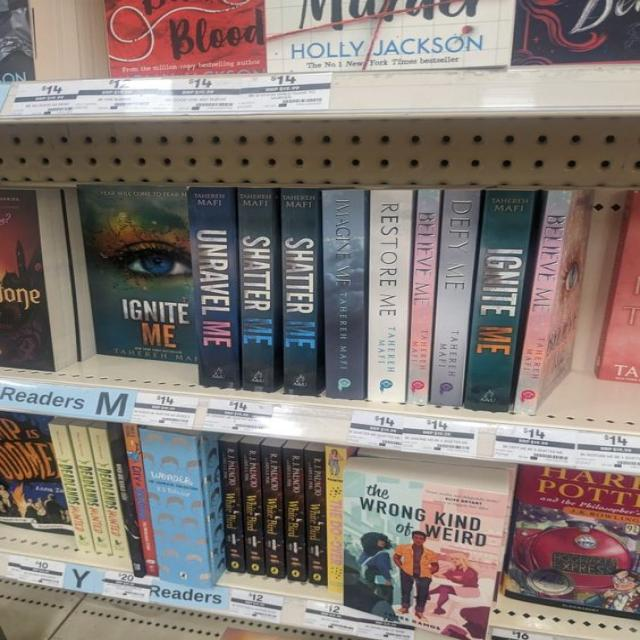book: (464, 188, 535, 412), (513, 190, 572, 416), (139, 429, 213, 590), (431, 189, 481, 407), (186, 188, 240, 388), (368, 192, 413, 403), (323, 189, 366, 401), (237, 187, 274, 392), (282, 188, 317, 396), (407, 188, 439, 405), (48, 424, 95, 552), (67, 425, 111, 554), (122, 423, 159, 576), (88, 427, 131, 558), (239, 443, 265, 574), (325, 446, 347, 595), (283, 447, 307, 583), (220, 441, 244, 571), (304, 450, 327, 584), (262, 446, 284, 579)
